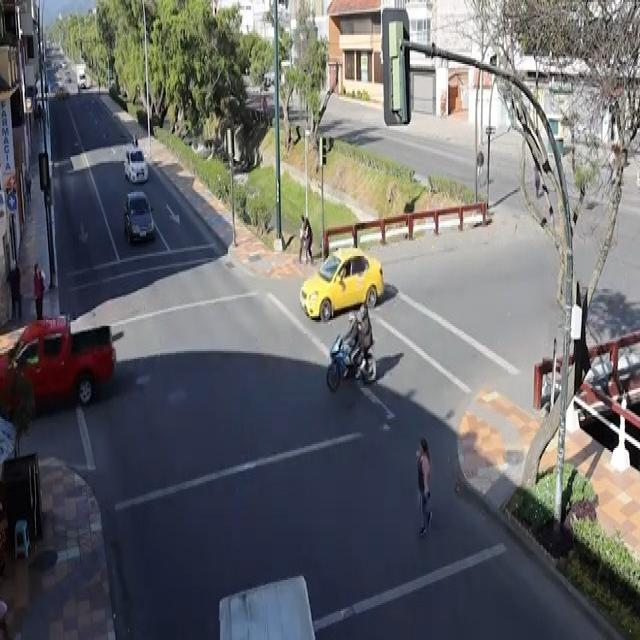CMT: (0, 314, 117, 413)
